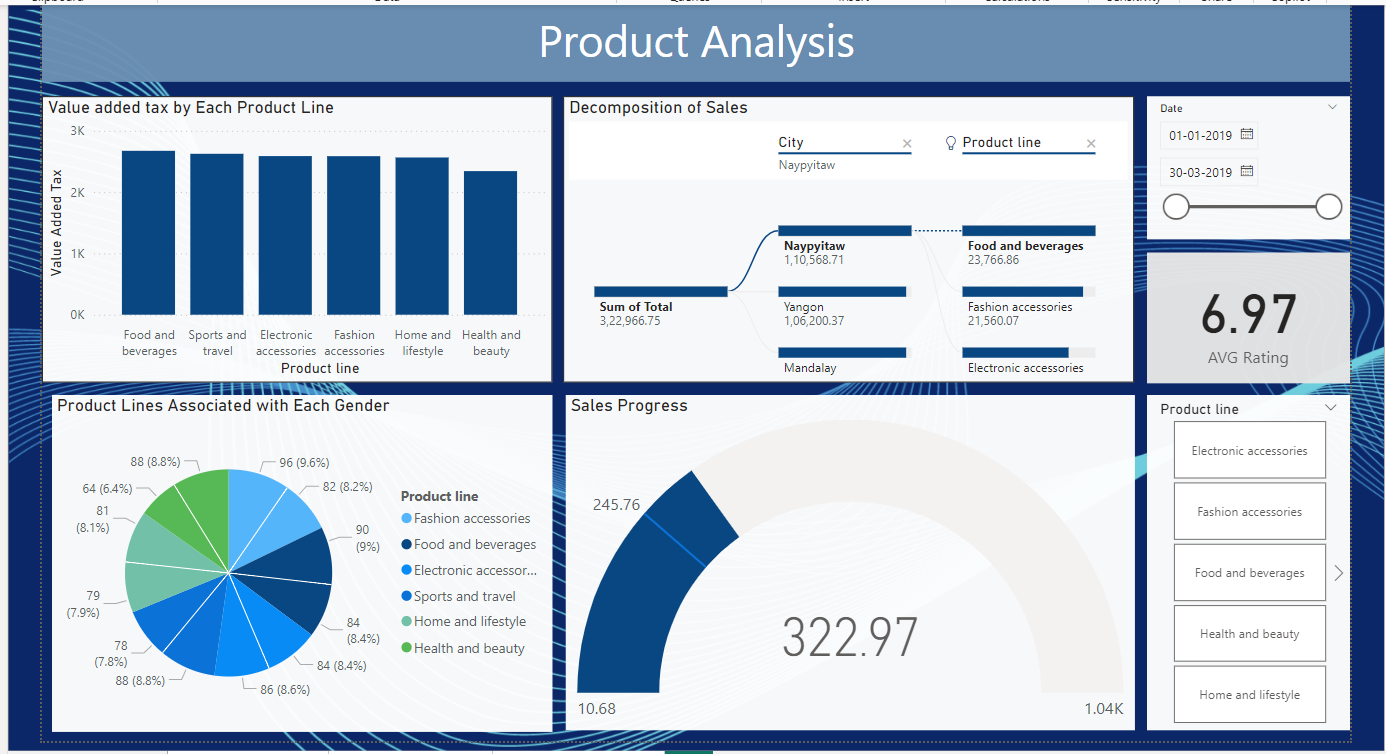

The page's visual inventory and layout, read from the dashboard file:
{"tool":"powerbi","page":{"name":"Product Analysis","canvas":[1280,720],"ordinal":1},"visuals":[{"type":"columnChart","title":"Value added tax by Each Product Line","fields":{"Y":["Sum(Amazon.Tax 5%)"],"Category":["Amazon.Product line"]},"box":[0,89.2,499.5,279.9],"z":0},{"type":"textbox","box":[0,0,1280.3,75.5],"z":1000},{"type":"pieChart","title":"Product Lines Associated with Each Gender","fields":{"Category":["Amazon.Product line"],"Series":["Amazon.Gender"],"Y":["CountNonNull(Amazon.Gender)"]},"box":[9.6,381.5,489.9,329.3],"z":2000},{"type":"decompositionTreeVisual","title":"Decomposition of Sales","fields":{"ExplainBy":["Amazon.City","Amazon.Product line"],"Analyze":["Sum(Amazon.Total)"]},"box":[510.5,89.2,558.5,279.9],"z":3000},{"type":"gauge","title":"Sales Progress","fields":{"Y":["Avg(Amazon.Total)"],"MinValue":["Min(Amazon.Total)"],"MaxValue":["Max(Amazon.Total)1"],"TargetValue":["Sum(Amazon.Total)2"]},"box":[511.8,381.5,557.1,328],"z":4000},{"type":"slicer","fields":{"Values":["Amazon.Date"]},"box":[1081.3,89.2,199,140],"z":5000},{"type":"card","fields":{"Values":["Amazon.AVG Rating"]},"box":[1081.3,241.5,199,127.6],"z":6000},{"type":"slicer","fields":{"Values":["Amazon.Product line"]},"box":[1081.3,381.5,199,328],"z":7000}]}

Visuals, with their boxes in screenshot pixels (x1, y1, x2, y2):
"Value added tax by Each Product Line" columnChart: [25, 92, 541, 381]
textbox: [25, 0, 1348, 78]
"Product Lines Associated with Each Gender" pieChart: [35, 394, 541, 734]
"Decomposition of Sales" decompositionTreeVisual: [553, 92, 1130, 381]
"Sales Progress" gauge: [554, 394, 1130, 733]
slicer - Amazon.Date: [1143, 92, 1348, 237]
card - Amazon.AVG Rating: [1143, 250, 1348, 381]
slicer - Amazon.Product line: [1143, 394, 1348, 733]
